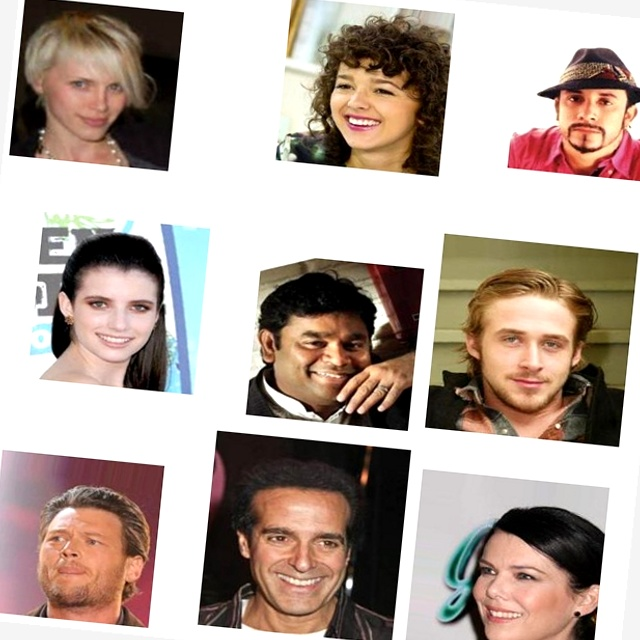celeb_1212: (35, 494, 213, 640)
celeb_2336: (241, 429, 455, 640)
celeb_2970: (28, 252, 211, 435)
celeb_3: (458, 0, 625, 133)
celeb_5695: (451, 427, 640, 633)
celeb_7: (250, 249, 428, 428)
celeb_7007: (228, 0, 408, 172)
celeb_797: (0, 45, 141, 220)
celeb_8335: (425, 191, 638, 405)
